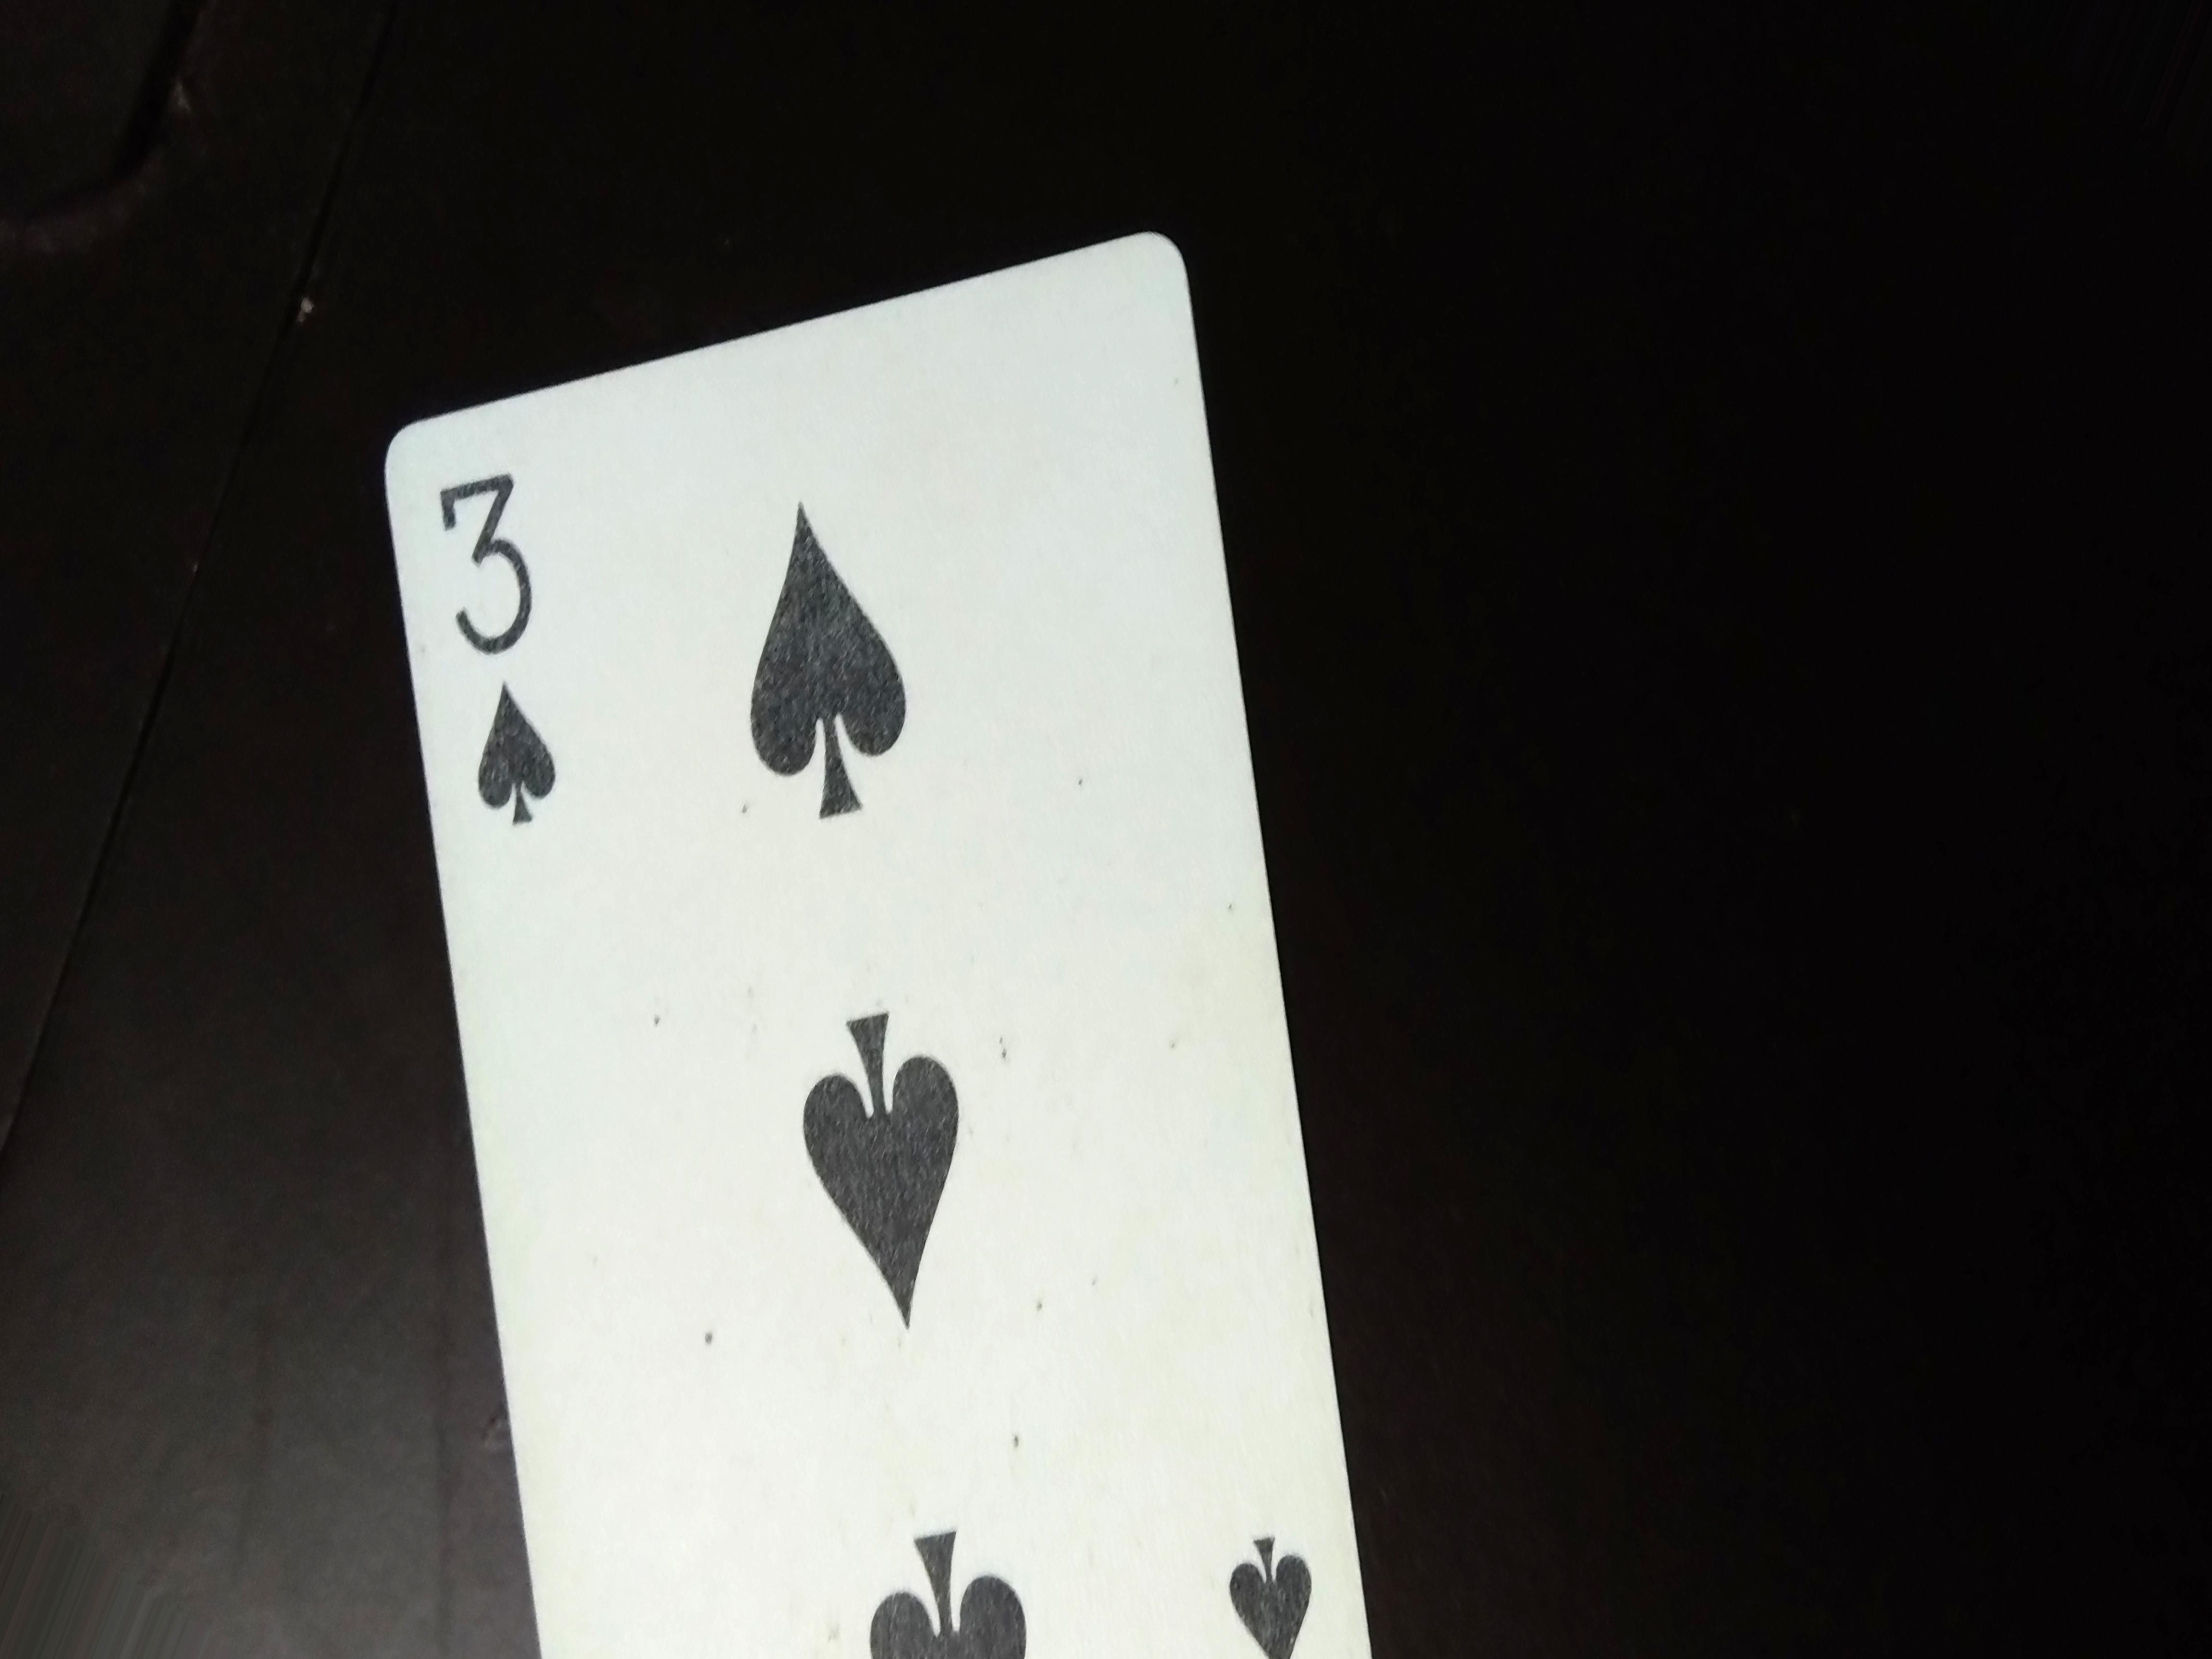3S: (415, 455, 618, 847)
